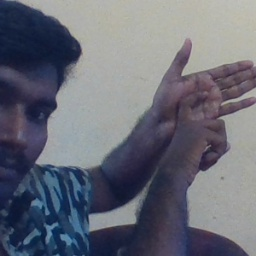R: (150, 37, 256, 180)
